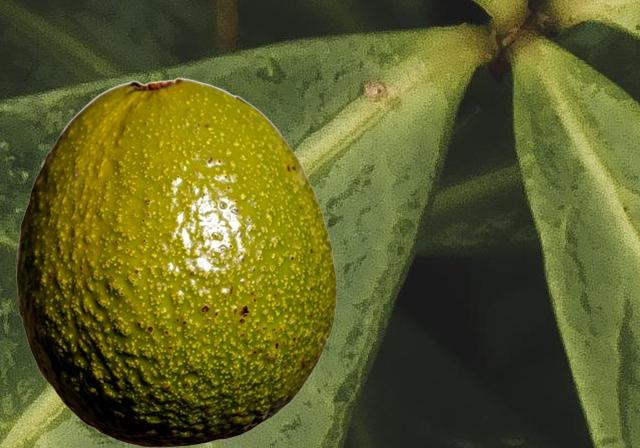avocado: (16, 77, 336, 446)
